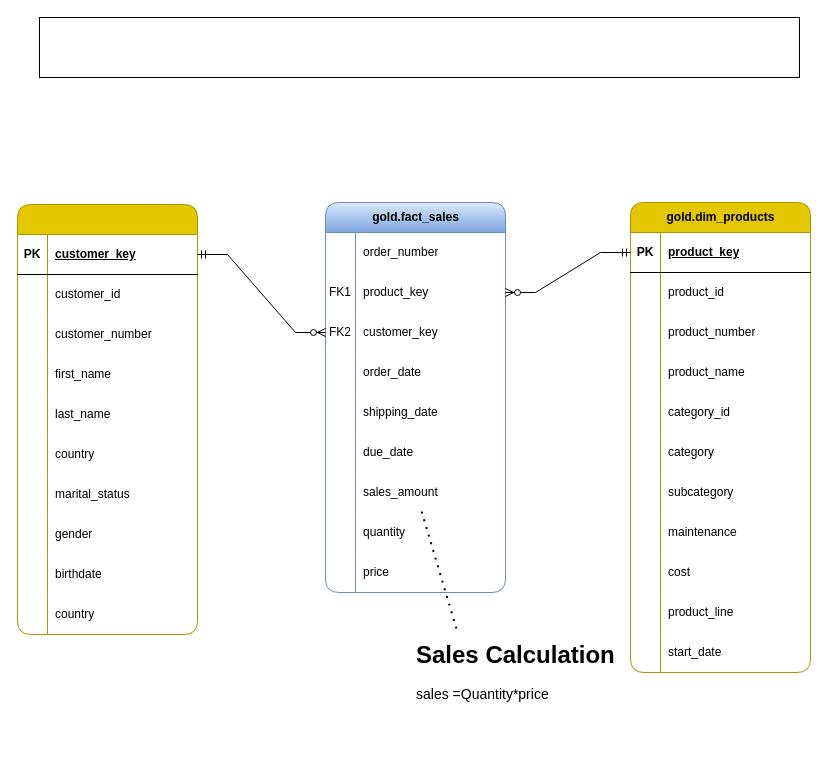
The diagram is 828 pixels wide and 775 high, and some of its shapes have lost their labels. Each missing label, with the box of its shape:
DATA MART (Star Schema): (38, 16, 800, 78)
gold.dim_customers: (16, 204, 198, 634)
